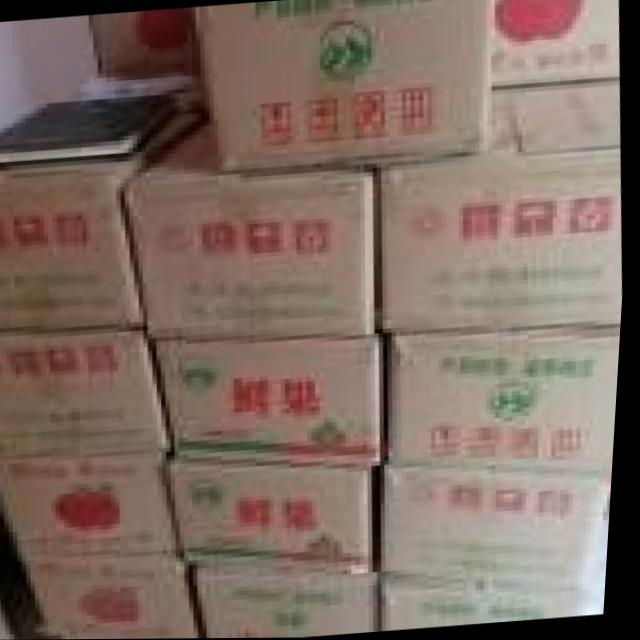box: (382, 77, 626, 334), (127, 125, 378, 339), (195, 0, 494, 171), (0, 110, 202, 329), (394, 328, 625, 474), (384, 465, 617, 590), (160, 338, 386, 465), (0, 330, 180, 461), (172, 464, 377, 573), (0, 452, 182, 562), (200, 565, 385, 639), (388, 572, 590, 631), (33, 565, 201, 631), (492, 0, 620, 82), (84, 7, 201, 78), (69, 624, 204, 639)
